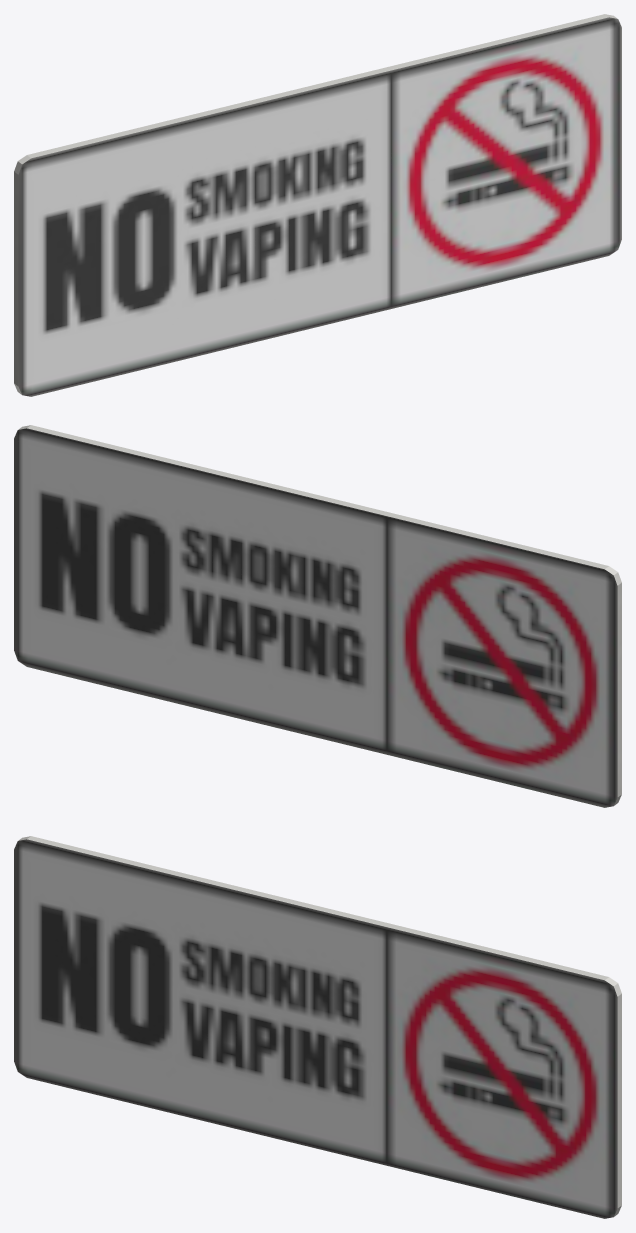
Rendered from Tag_1.fbx.
The picture shows the model from 3 angles, top to bottom: view 1: azimuth 30°, elevation 25°; view 2: azimuth 150°, elevation 25°; view 3: azimuth 330°, elevation 25°; orthographic projection.
Visible parts, largest first — view 1: Tag_1; view 2: Tag_1; view 3: Tag_1.
Boxes of the visible parts, box(x1,y1,x2,y2) form: Tag_1: box(14, 14, 621, 396); Tag_1: box(14, 425, 621, 807); Tag_1: box(14, 836, 621, 1218).
Bounding box in the file's own units: 0.6474 × 0.2445 × 0.0083.
